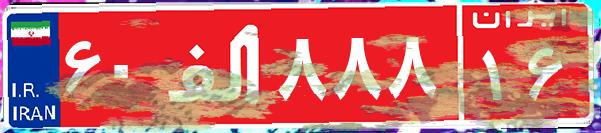0: (110, 28, 158, 105)
1: (475, 38, 525, 113)
6: (57, 26, 110, 107), (525, 38, 570, 115)
8: (385, 28, 445, 110), (273, 28, 330, 110), (330, 28, 385, 110)
الف: (158, 15, 273, 115)
